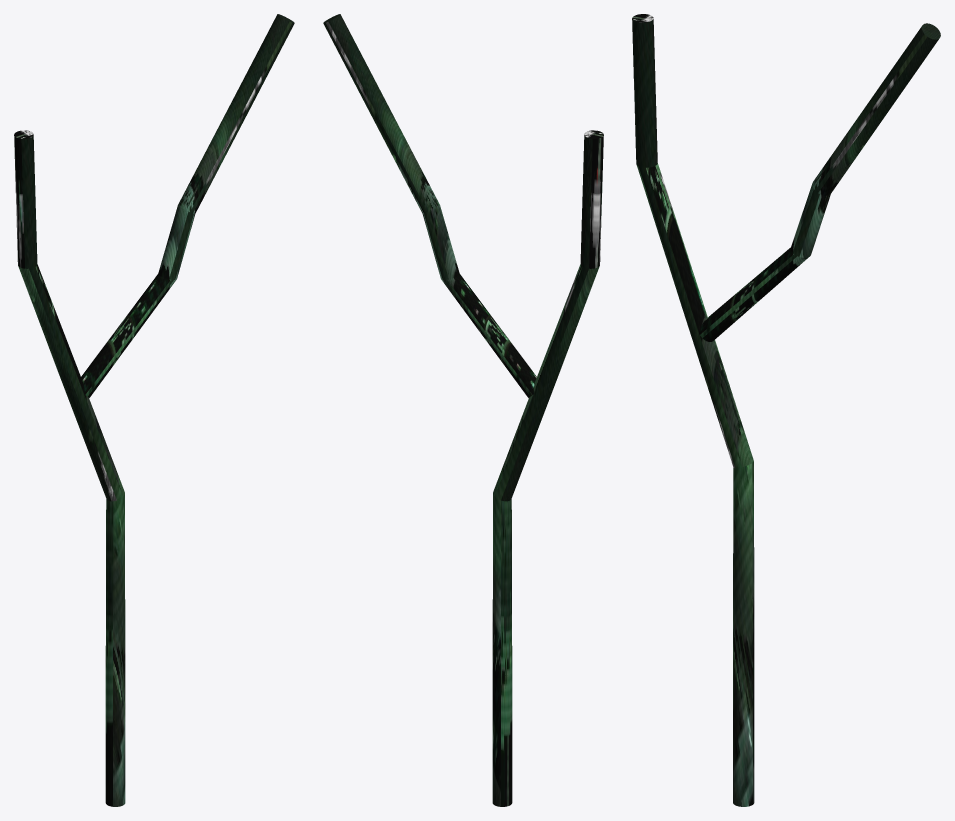
The model's file is stem-mesh.glb.
3 renders of one model, left to right at view 1: azimuth 30°, elevation 25°; view 2: azimuth 150°, elevation 25°; view 3: azimuth 330°, elevation 25°, orthographic. The views are drawn at different scales.
Parts seen in each view (by area): view 1: Cylinder; view 2: Cylinder; view 3: Cylinder.
Part boxes in pixels (left/top/right/bottom): Cylinder: left=14, top=14, right=294, bottom=806; Cylinder: left=323, top=14, right=603, bottom=806; Cylinder: left=632, top=14, right=940, bottom=806.
Bounding box in the file's own units: 4.44 × 11.42 × 0.2716.
1 material, 1 textured.
